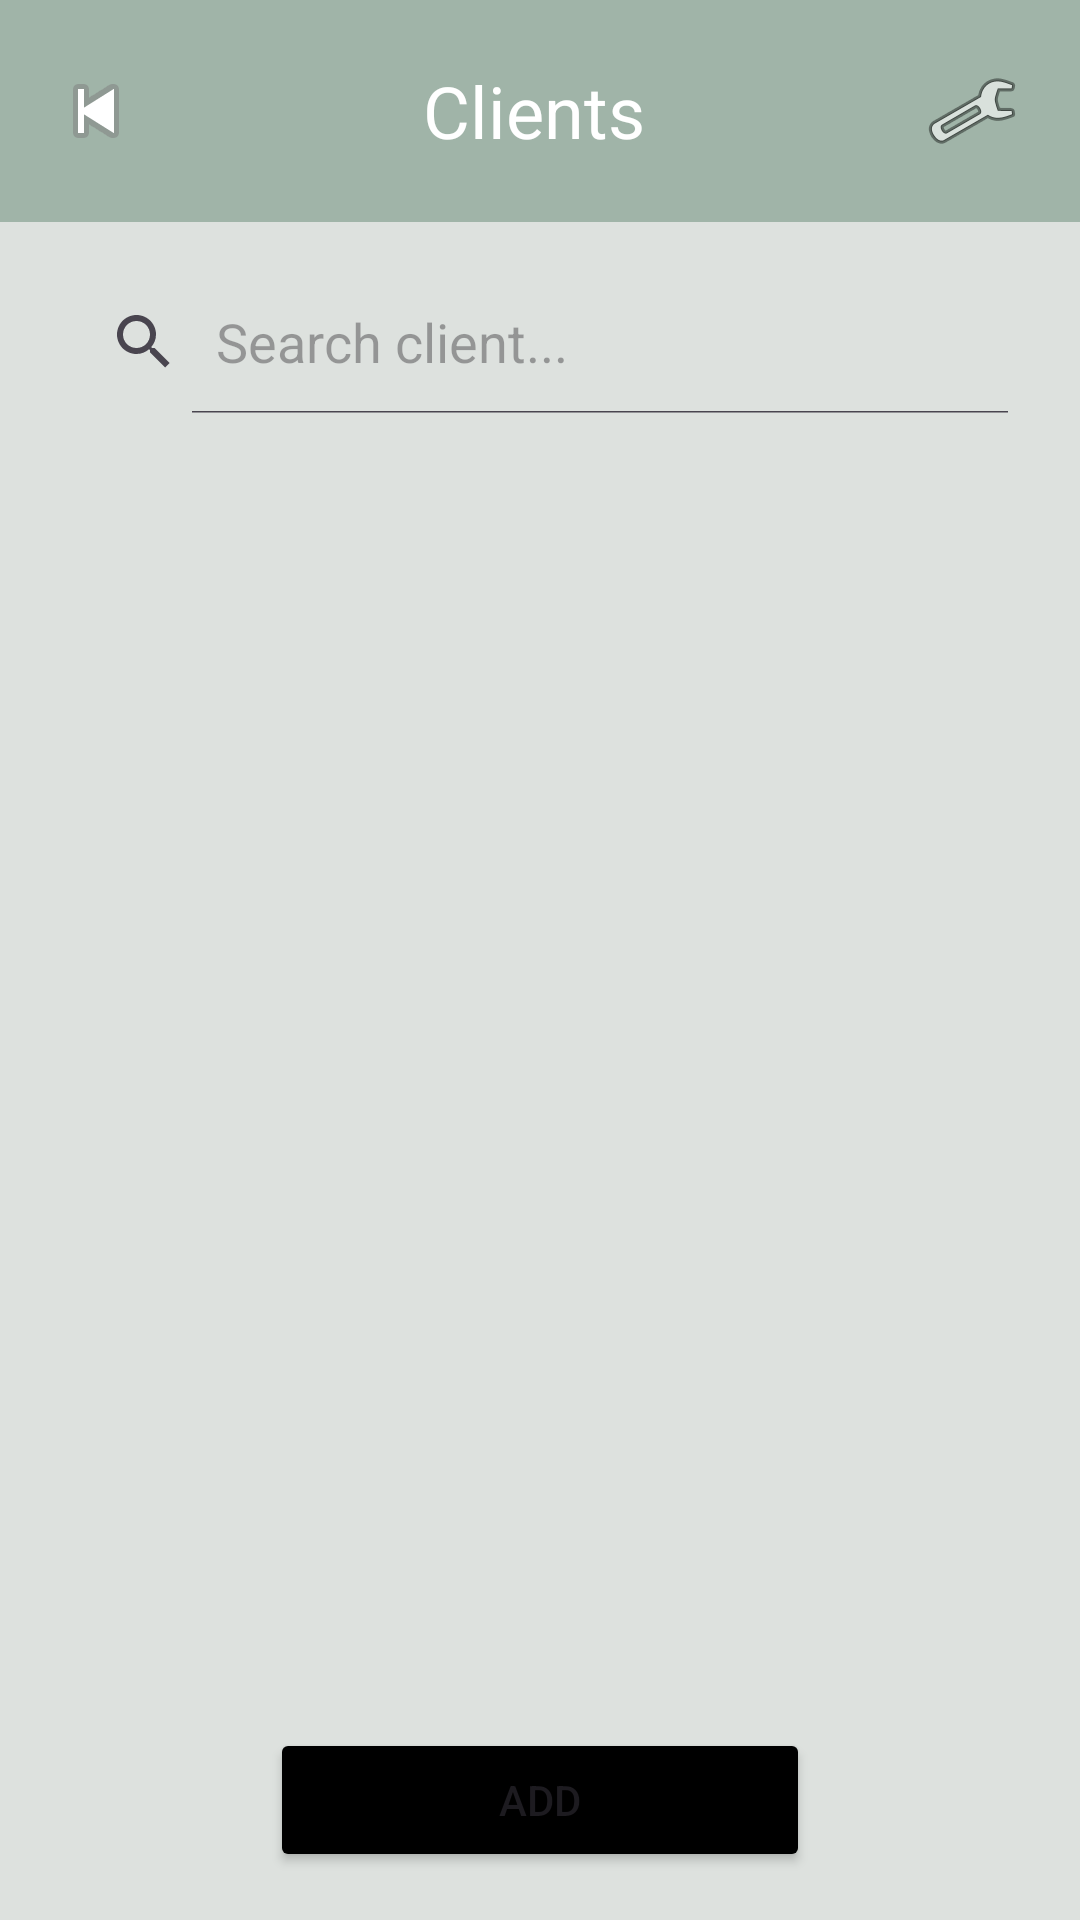

Icons on this 1080w x 1920h Android screen, each with its box as (x1, y1, x2, y2):
manage: (929, 78, 1015, 144)
previous: (73, 84, 119, 138)
